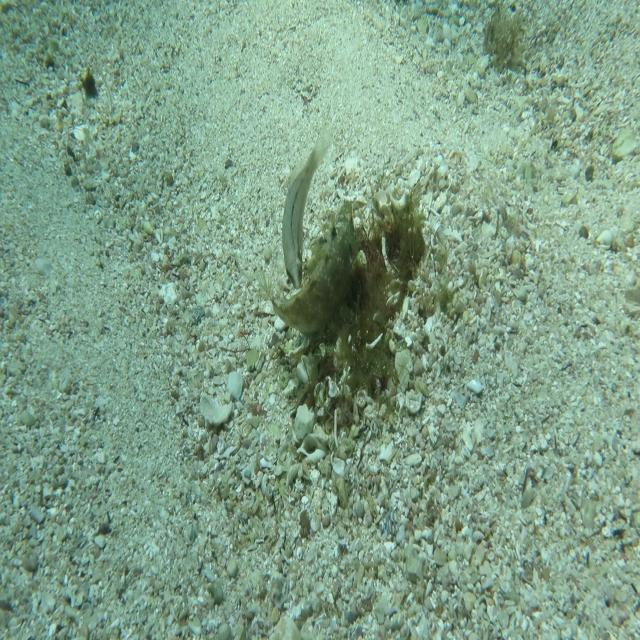DAN_CIRC: (255, 200, 358, 335)
core_nest: (358, 234, 404, 281)
female: (281, 137, 331, 290)
nest: (279, 163, 430, 436)
